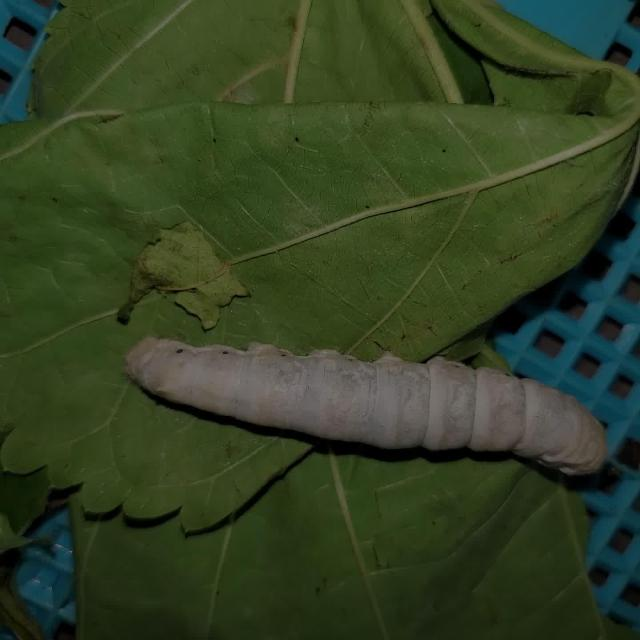Grasserie: (117, 310, 628, 501)
